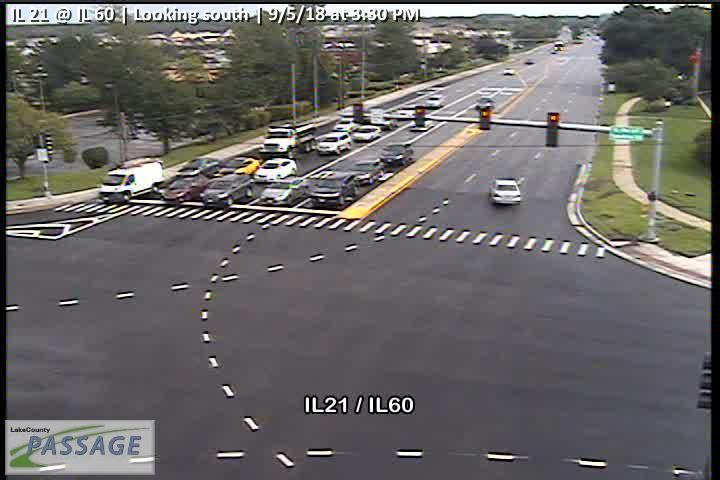SUV: (98, 161, 163, 203)
Sedan: (310, 170, 361, 206), (200, 174, 252, 207), (158, 173, 209, 206), (259, 176, 308, 205), (251, 157, 297, 185), (343, 156, 385, 185), (175, 156, 223, 181), (216, 156, 259, 180), (487, 178, 522, 206), (377, 143, 415, 166), (317, 130, 350, 155), (350, 124, 382, 143), (426, 93, 442, 109)
Truck: (257, 120, 318, 160)
